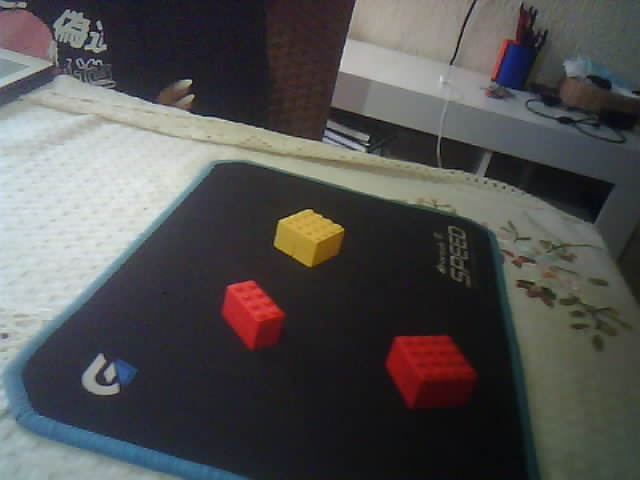lego: (383, 333, 479, 412), (219, 279, 288, 354), (272, 207, 346, 271)
